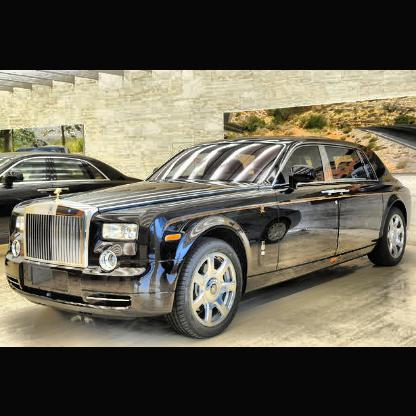Rolls-Royce Phantom Sedan 2012: (6, 139, 413, 347)
